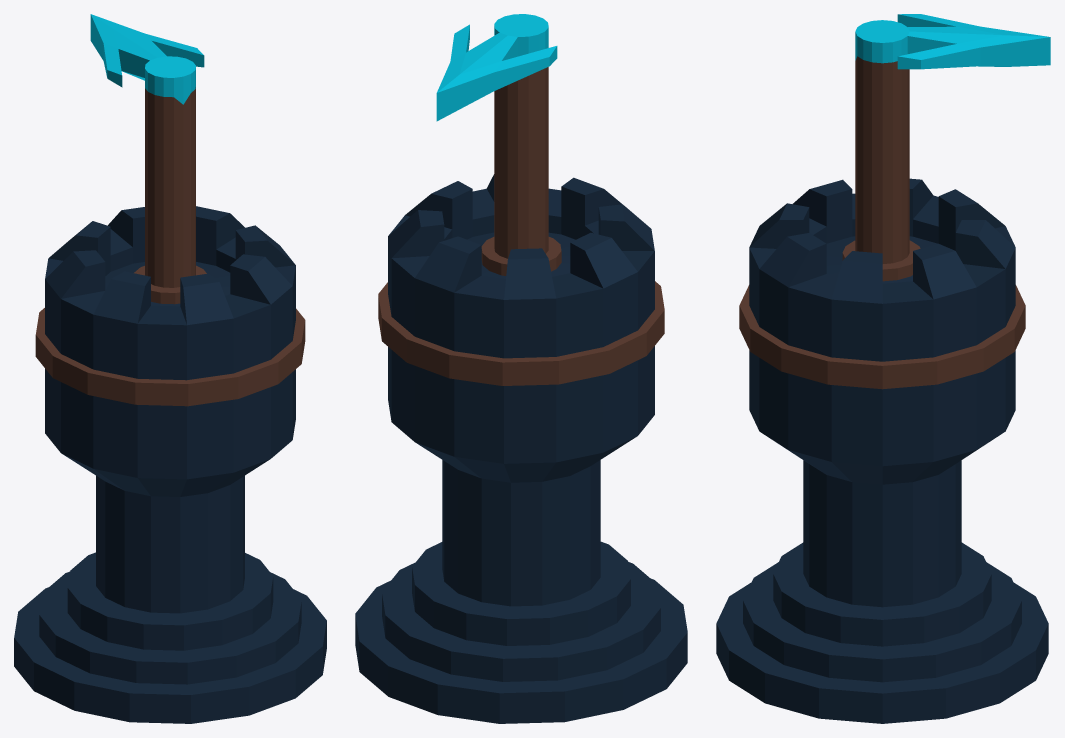
The model's file is Eisturm.fbx.
3 views of the same model, side by side, from view 1: azimuth 30°, elevation 25°; view 2: azimuth 150°, elevation 25°; view 3: azimuth 270°, elevation 25° (orthographic). The views are drawn at different scales.
Visible parts, largest first — view 1: unten, oben, Geschütz, Ring, Pfeil; view 2: unten, oben, Geschütz, Ring, Pfeil; view 3: unten, oben, Geschütz, Ring, Pfeil.
Part boxes in pixels (left/top/right/bottom): unten: left=14, top=475, right=326, bottom=723; oben: left=45, top=206, right=295, bottom=496; Geschütz: left=134, top=87, right=206, bottom=304; Ring: left=35, top=308, right=305, bottom=406; Pfeil: left=90, top=14, right=204, bottom=104; unten: left=355, top=460, right=687, bottom=723; oben: left=388, top=174, right=654, bottom=482; Geschütz: left=481, top=67, right=561, bottom=275; Ring: left=378, top=281, right=664, bottom=385; Pfeil: left=436, top=14, right=557, bottom=121; unten: left=716, top=460, right=1048, bottom=723; oben: left=749, top=178, right=1015, bottom=484; Geschütz: left=842, top=56, right=920, bottom=281; Ring: left=739, top=285, right=1025, bottom=389; Pfeil: left=855, top=14, right=1050, bottom=69.
Bounding box in the file's own units: 1119 × 2313 × 1126.
